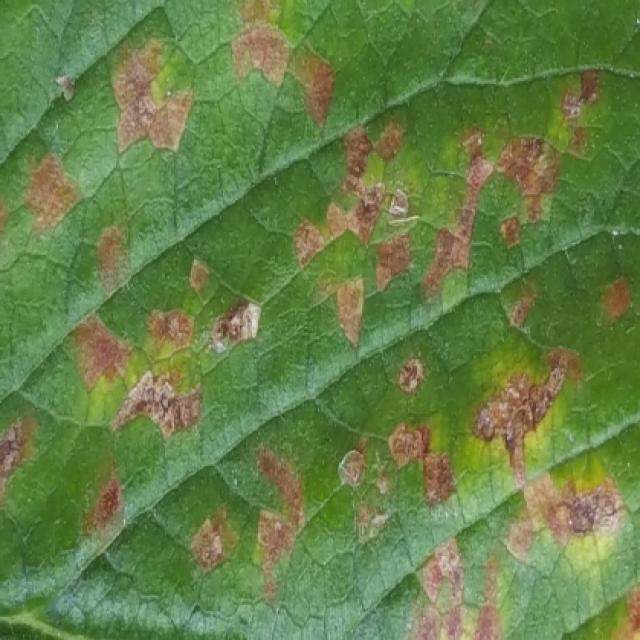Angular Leafspot: (0, 0, 638, 638)
